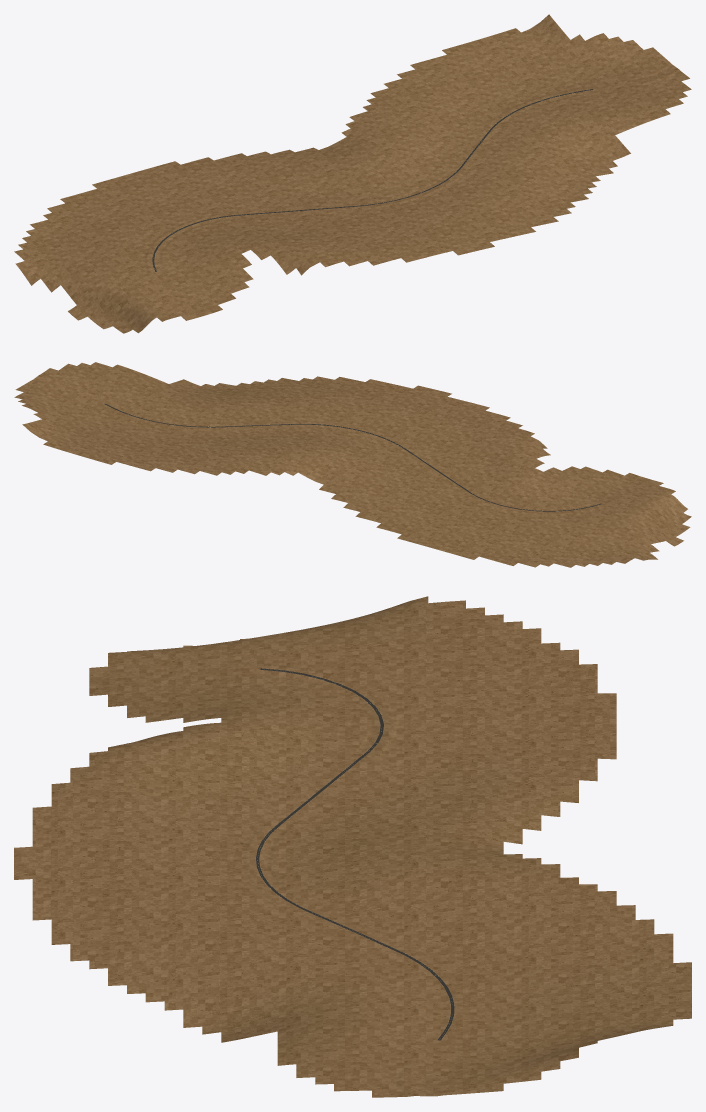
3 renders of one model, top to bottom at view 1: azimuth 30°, elevation 25°; view 2: azimuth 150°, elevation 25°; view 3: azimuth 270°, elevation 25°, orthographic. The views are drawn at different scales.
Parts seen in each view (by area): view 1: S04_TERRAIN_LOD2_WEB_EXPORT, S04_ROAD_ASPHALT_LOD2_WEB_EXPORT; view 2: S04_TERRAIN_LOD2_WEB_EXPORT, S04_ROAD_ASPHALT_LOD2_WEB_EXPORT; view 3: S04_TERRAIN_LOD2_WEB_EXPORT, S04_ROAD_ASPHALT_LOD2_WEB_EXPORT.
Boxes of the visible parts, x1,y1,x2,y2 form: S04_TERRAIN_LOD2_WEB_EXPORT: (14,14,691,333); S04_ROAD_ASPHALT_LOD2_WEB_EXPORT: (152,89,592,271); S04_TERRAIN_LOD2_WEB_EXPORT: (14,362,691,567); S04_ROAD_ASPHALT_LOD2_WEB_EXPORT: (104,403,601,511); S04_TERRAIN_LOD2_WEB_EXPORT: (14,596,691,1097); S04_ROAD_ASPHALT_LOD2_WEB_EXPORT: (256,668,454,1040).
Bounding box in the file's own units: 2840 × 293 × 1440.
5 materials, 5 textured.
